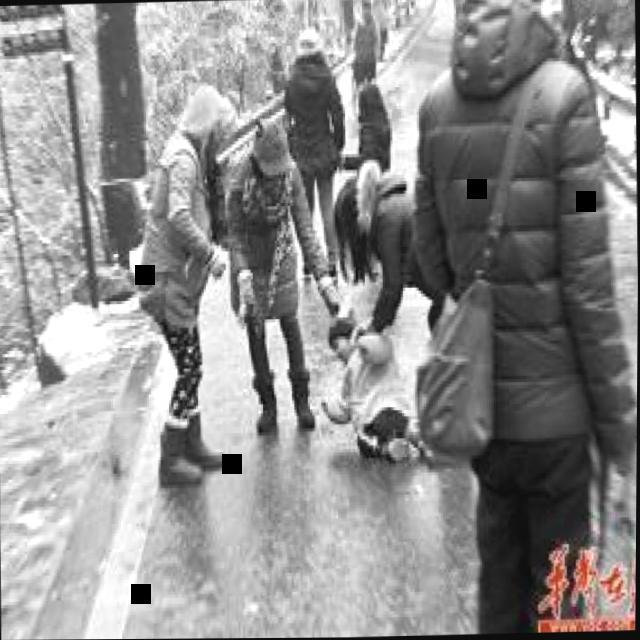Fall-Detected: (303, 286, 453, 469)
